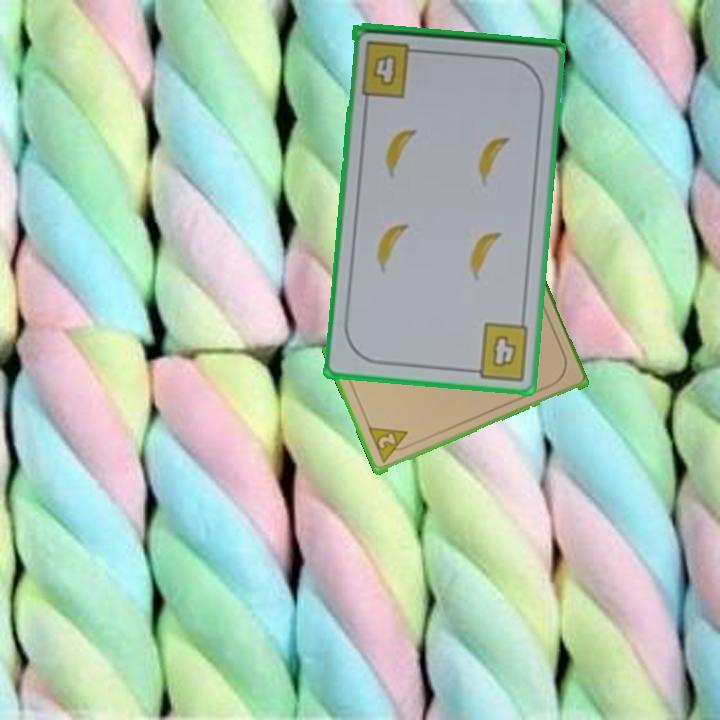2p: (365, 424, 414, 466)
4b: (464, 319, 532, 384), (358, 37, 425, 100)
